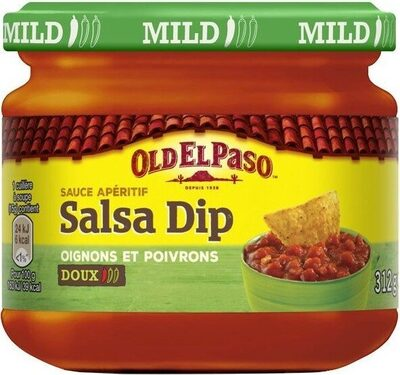Salsa dip: (20, 19, 380, 356)
